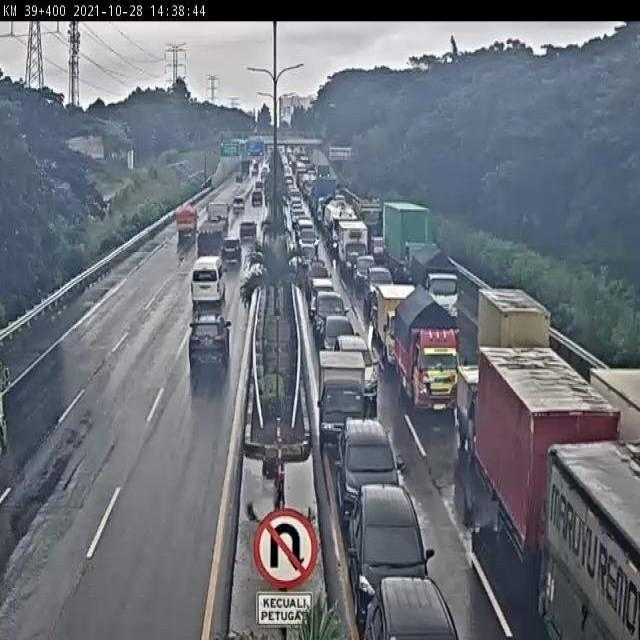big truck: (479, 345, 626, 595), (193, 201, 231, 252)
car: (349, 486, 436, 618), (335, 418, 399, 530), (363, 577, 460, 640), (189, 310, 238, 382), (335, 336, 380, 403), (184, 262, 224, 318), (319, 315, 360, 369), (312, 290, 350, 342), (367, 265, 395, 308), (309, 276, 334, 316), (355, 255, 376, 288), (236, 223, 258, 249), (217, 243, 238, 269), (229, 202, 244, 222)
small truck: (393, 287, 462, 416), (477, 287, 547, 396), (458, 365, 521, 468), (317, 348, 369, 449), (377, 283, 420, 369), (380, 201, 426, 280), (409, 238, 451, 318), (339, 220, 369, 276), (172, 202, 196, 242)
